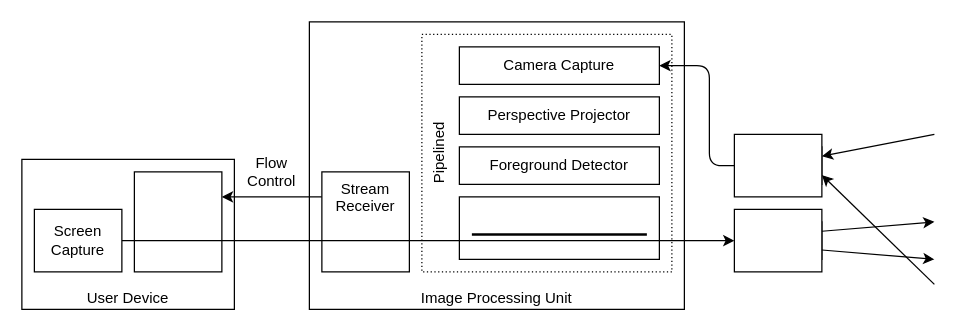
Image size: 966x331. Some labels were removed from this diagram. Each missing label, with the box of its shape:
Beam Projector: (733, 208, 822, 272)
Camera: (733, 133, 822, 197)
Coupler: (458, 196, 659, 259)
Streamer: (133, 171, 222, 272)
